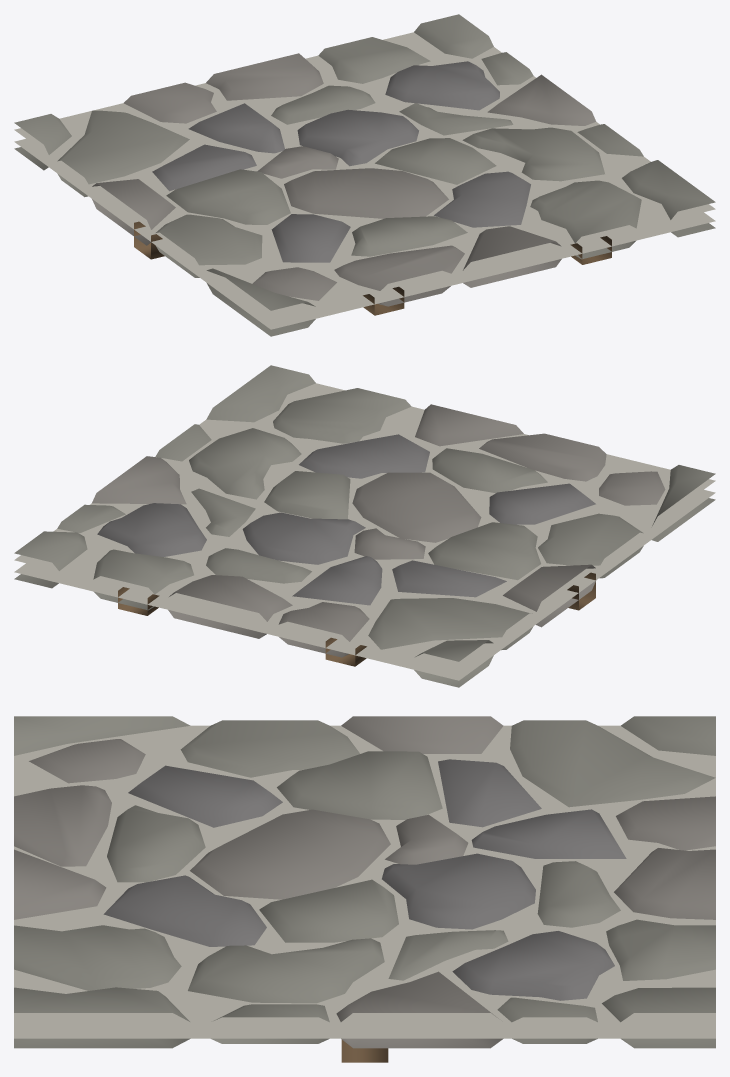
File: rpgpp_ag_floor_04a_3x3_2side.fbx
3 views of the same model, one above another, from view 1: azimuth 30°, elevation 25°; view 2: azimuth 150°, elevation 25°; view 3: azimuth 270°, elevation 25° (orthographic). The views are drawn at different scales.
Visible parts, largest first — view 1: rpgpp_ag_floor_04a_3x3_2side; view 2: rpgpp_ag_floor_04a_3x3_2side; view 3: rpgpp_ag_floor_04a_3x3_2side.
Part boxes in pixels (x1,y1,x2,y2): rpgpp_ag_floor_04a_3x3_2side: (14, 14, 715, 336); rpgpp_ag_floor_04a_3x3_2side: (14, 365, 715, 687); rpgpp_ag_floor_04a_3x3_2side: (14, 716, 715, 1062).
Size of the model in its own units: 3 by 0.2349 by 3.
